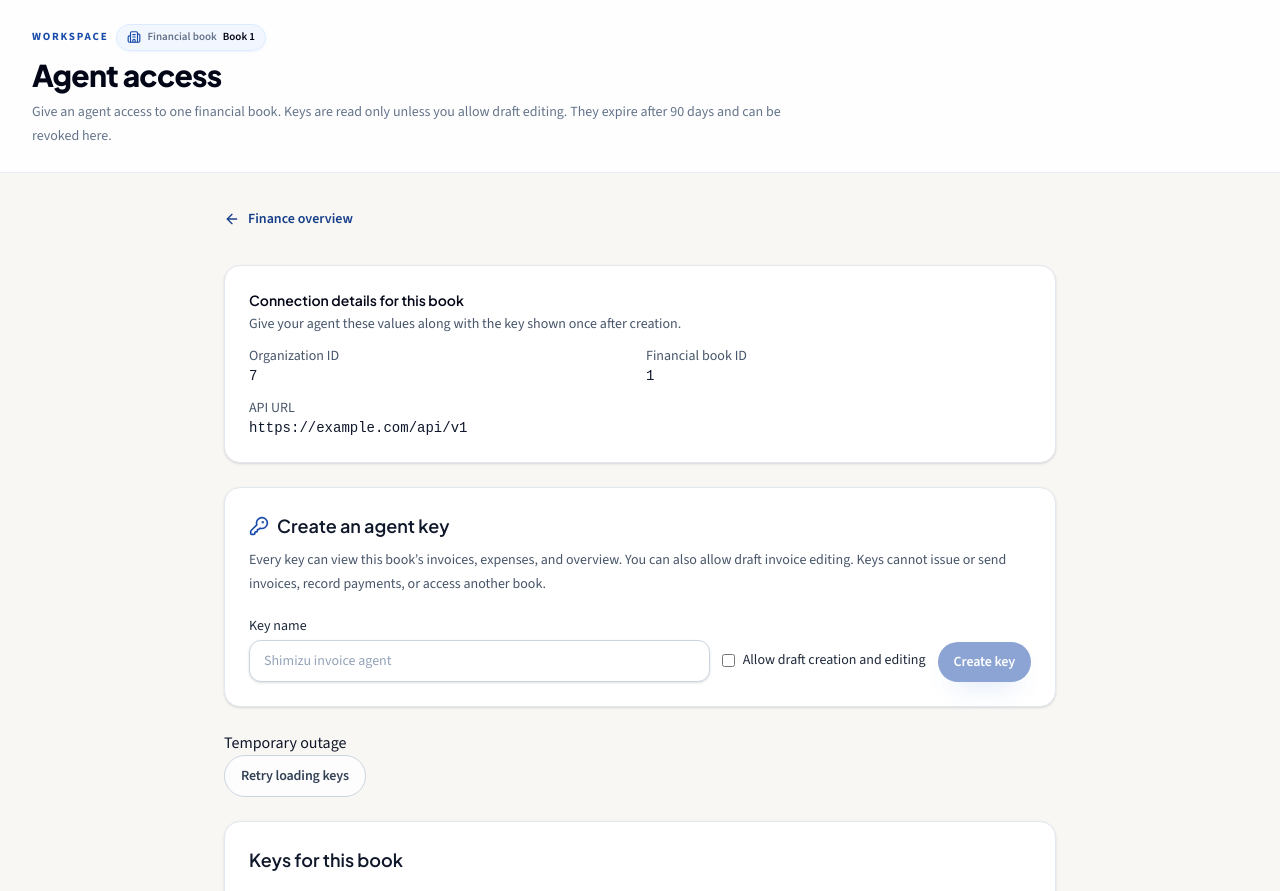
Test: FinanceAgentAccess › shows connection IDs and retries a failed key list
Expected: the text "Temporary outage" is shown, [224,732,346,753]
Expected: the text "7" is shown, [249,368,257,384]
Click the button "Retry loading keys". click: (295, 776)
box: [224,755,366,797]
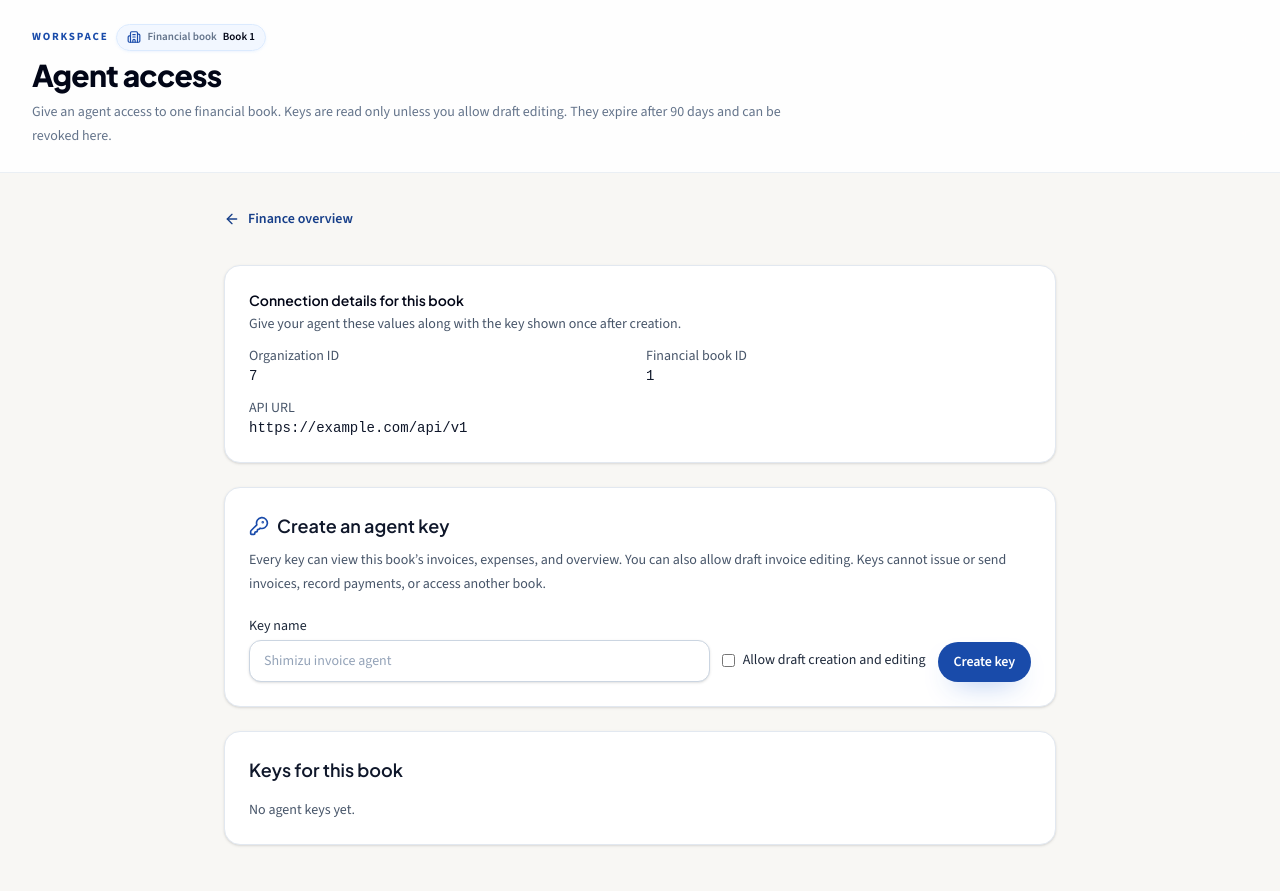
Expected: the text "No agent keys yet." is shown, [249,800,355,819]
